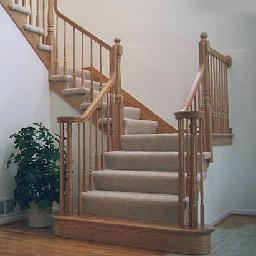Escaleras: (53, 7, 234, 248)
Matera: (12, 122, 59, 232)
